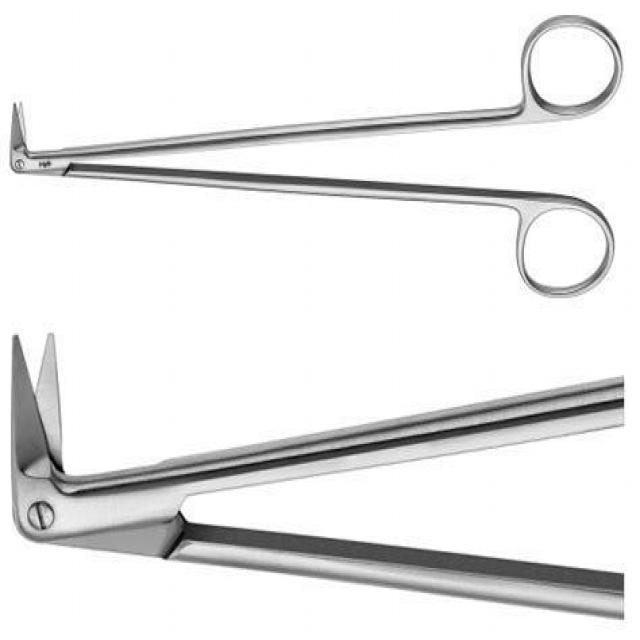Potts: (6, 326, 626, 622), (6, 13, 626, 304)
